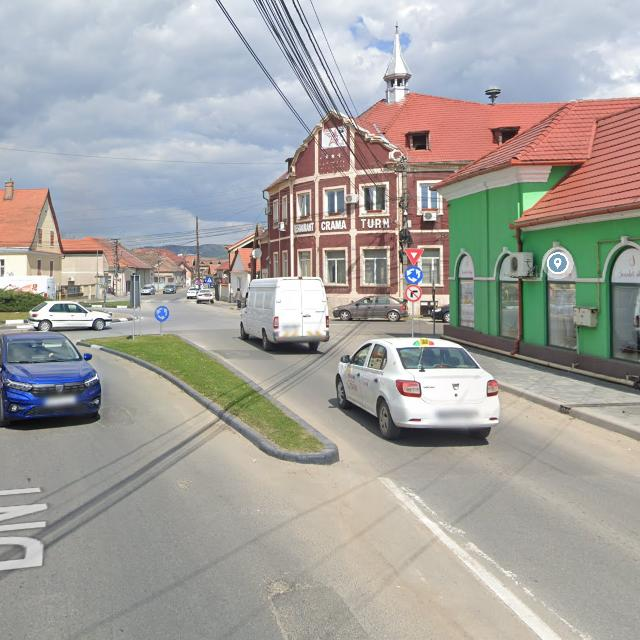forb_right: (404, 284, 422, 302)
info_crosswalk: (206, 276, 212, 284)
mand_roundabout: (404, 266, 422, 284), (154, 306, 170, 321)
prio_give_way: (404, 248, 424, 266)
